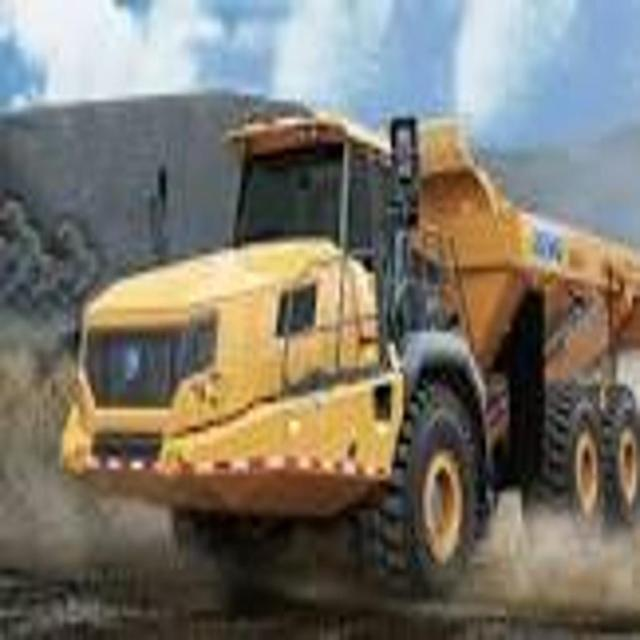dump_truck: (63, 91, 640, 584)
